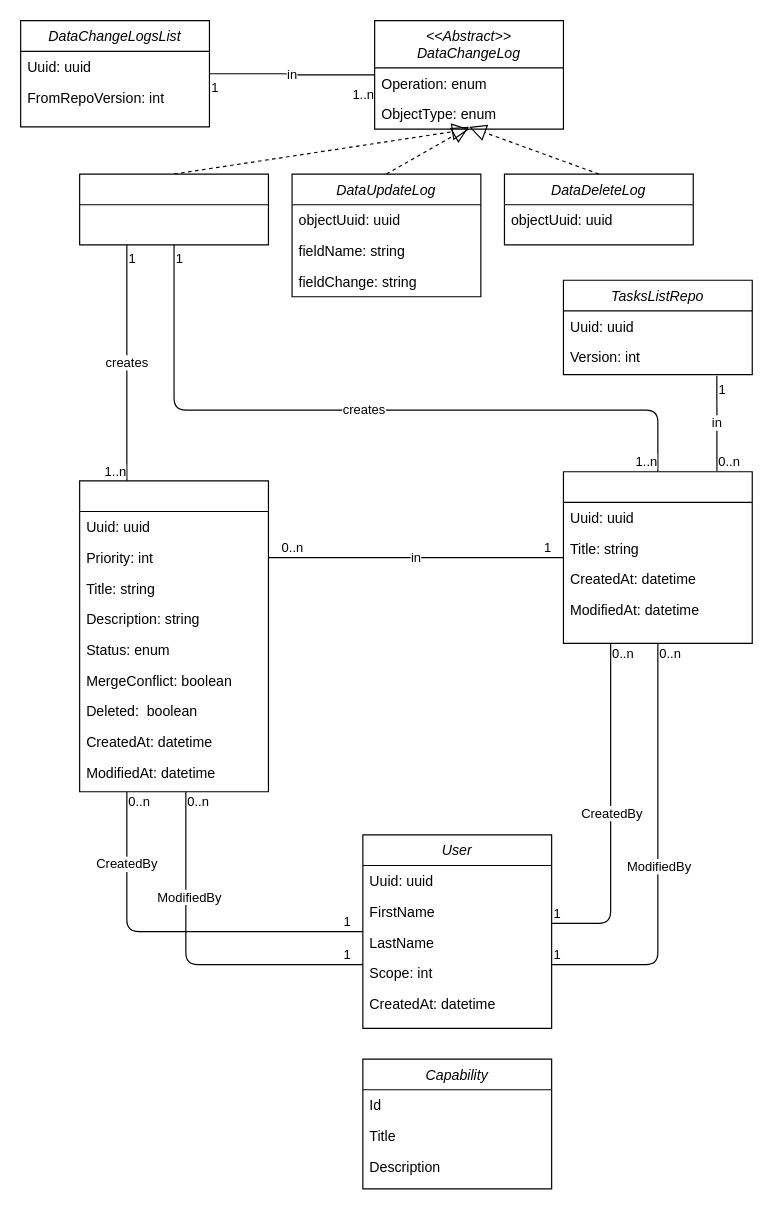
The diagram is 773 pixels wide and 1210 high, and some of its shapes have lost their labels. The shapes that lost their labels are listed below. From the top down, each one's box as (x1, y1, x2, y2) in pixels, then its label:
(78, 173, 268, 245): DataCreationLog
(562, 471, 752, 643): TasksList
(78, 480, 268, 792): Task
